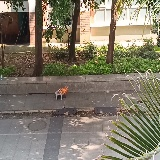fire: (58, 86, 68, 94)
